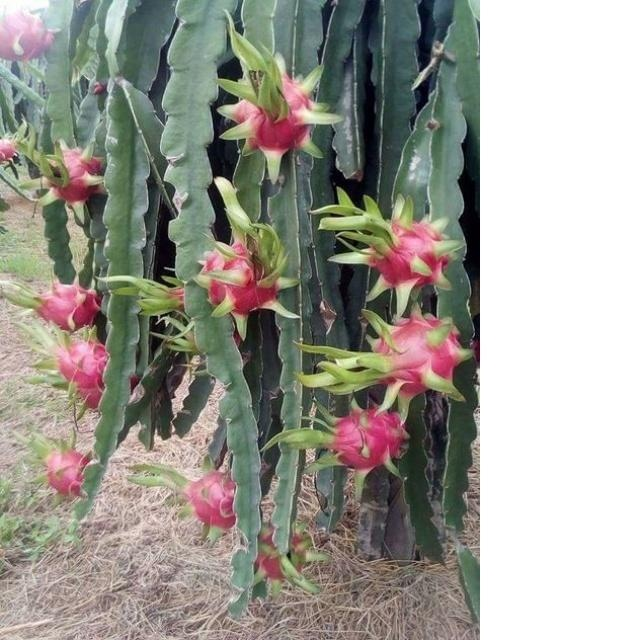tao: (216, 11, 337, 186), (309, 188, 467, 319), (290, 308, 476, 412), (106, 242, 298, 324), (260, 394, 410, 494), (125, 462, 242, 542), (17, 143, 110, 219), (254, 518, 332, 597), (0, 277, 98, 334), (15, 428, 90, 499), (49, 339, 109, 402)
